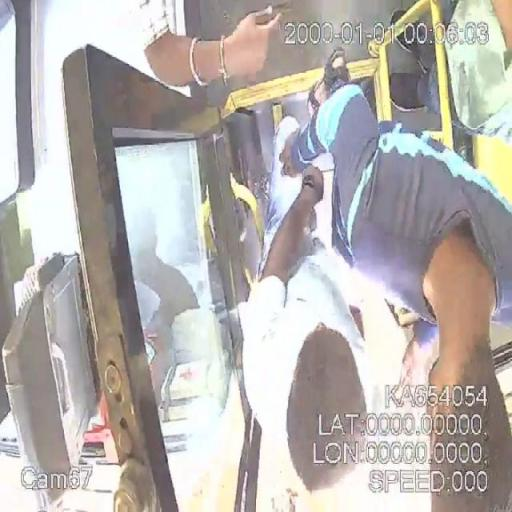persona: (282, 58, 512, 511), (242, 109, 380, 502)
